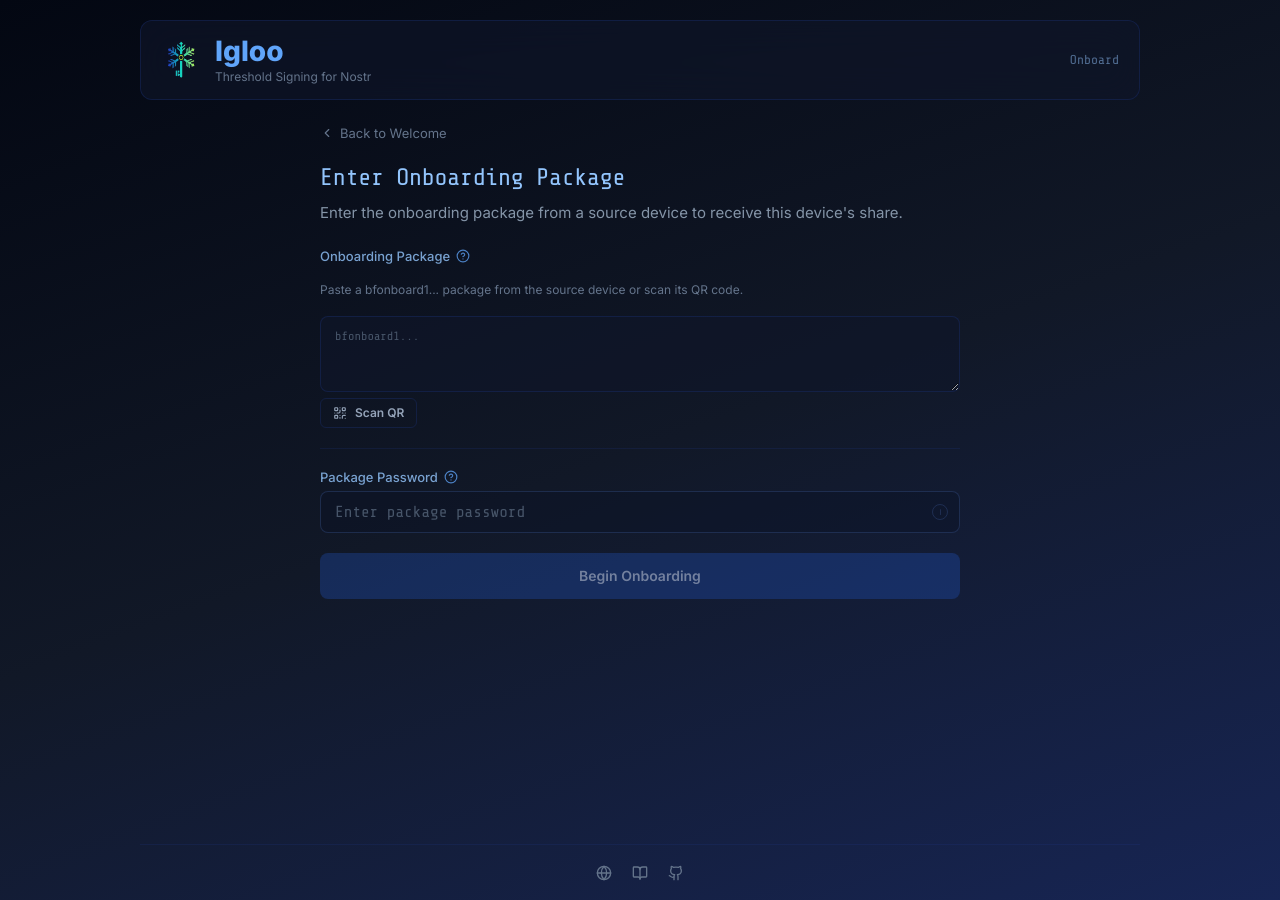
EnterPackageScreen › shows validation feedback for valid bfonboard1 input
The image size is (1280, 900).
Type "bfonboard1abc123" into the text box with placeholder "bfonboard1..." at (640, 354), box [320, 316, 960, 392]
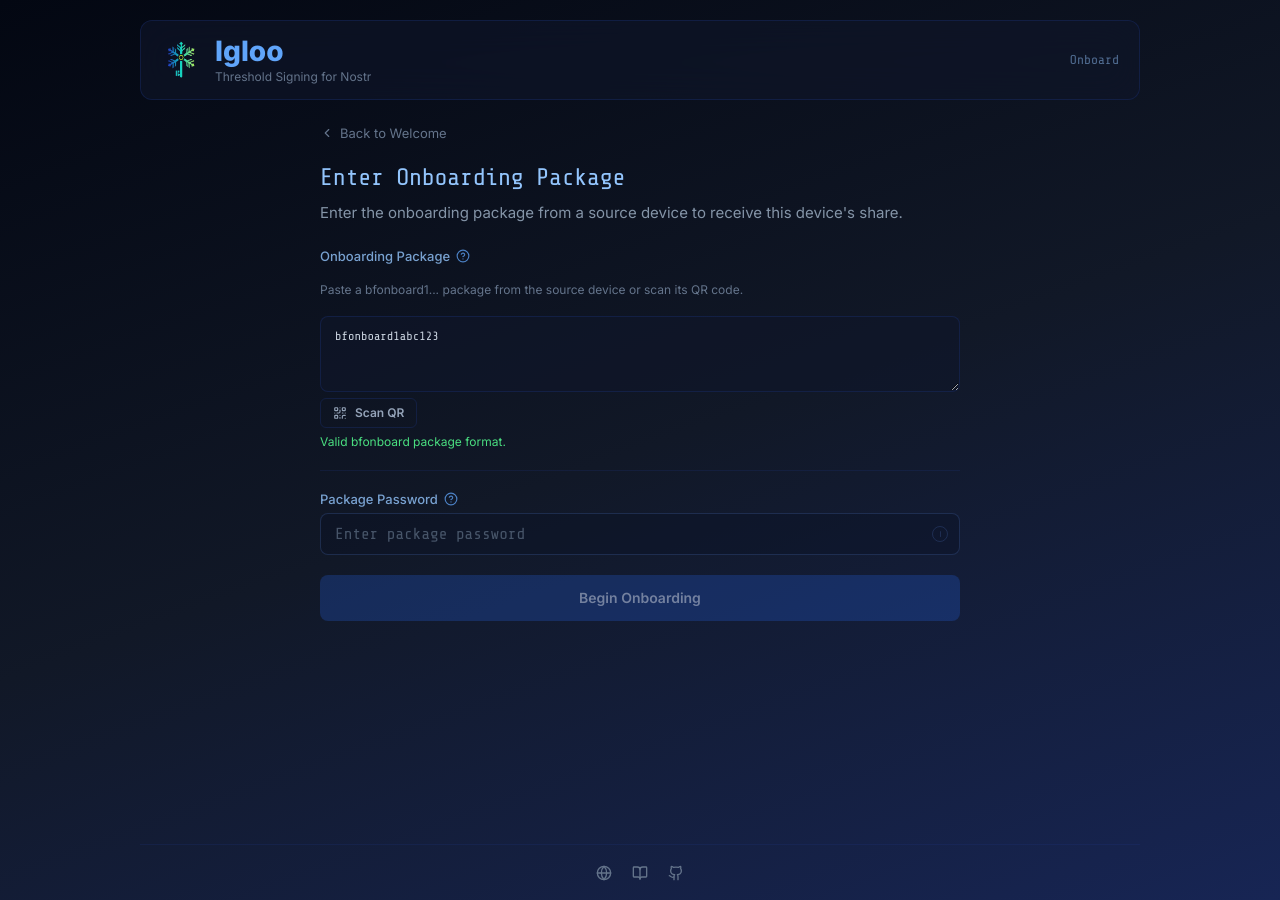
Expected: the text "Valid bfonboard package format." is shown, [320, 434, 506, 449]
